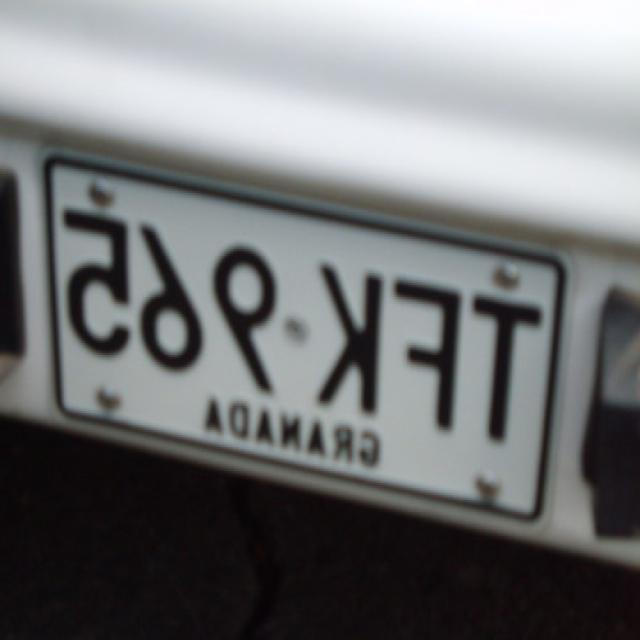placas: (48, 186, 549, 465)
